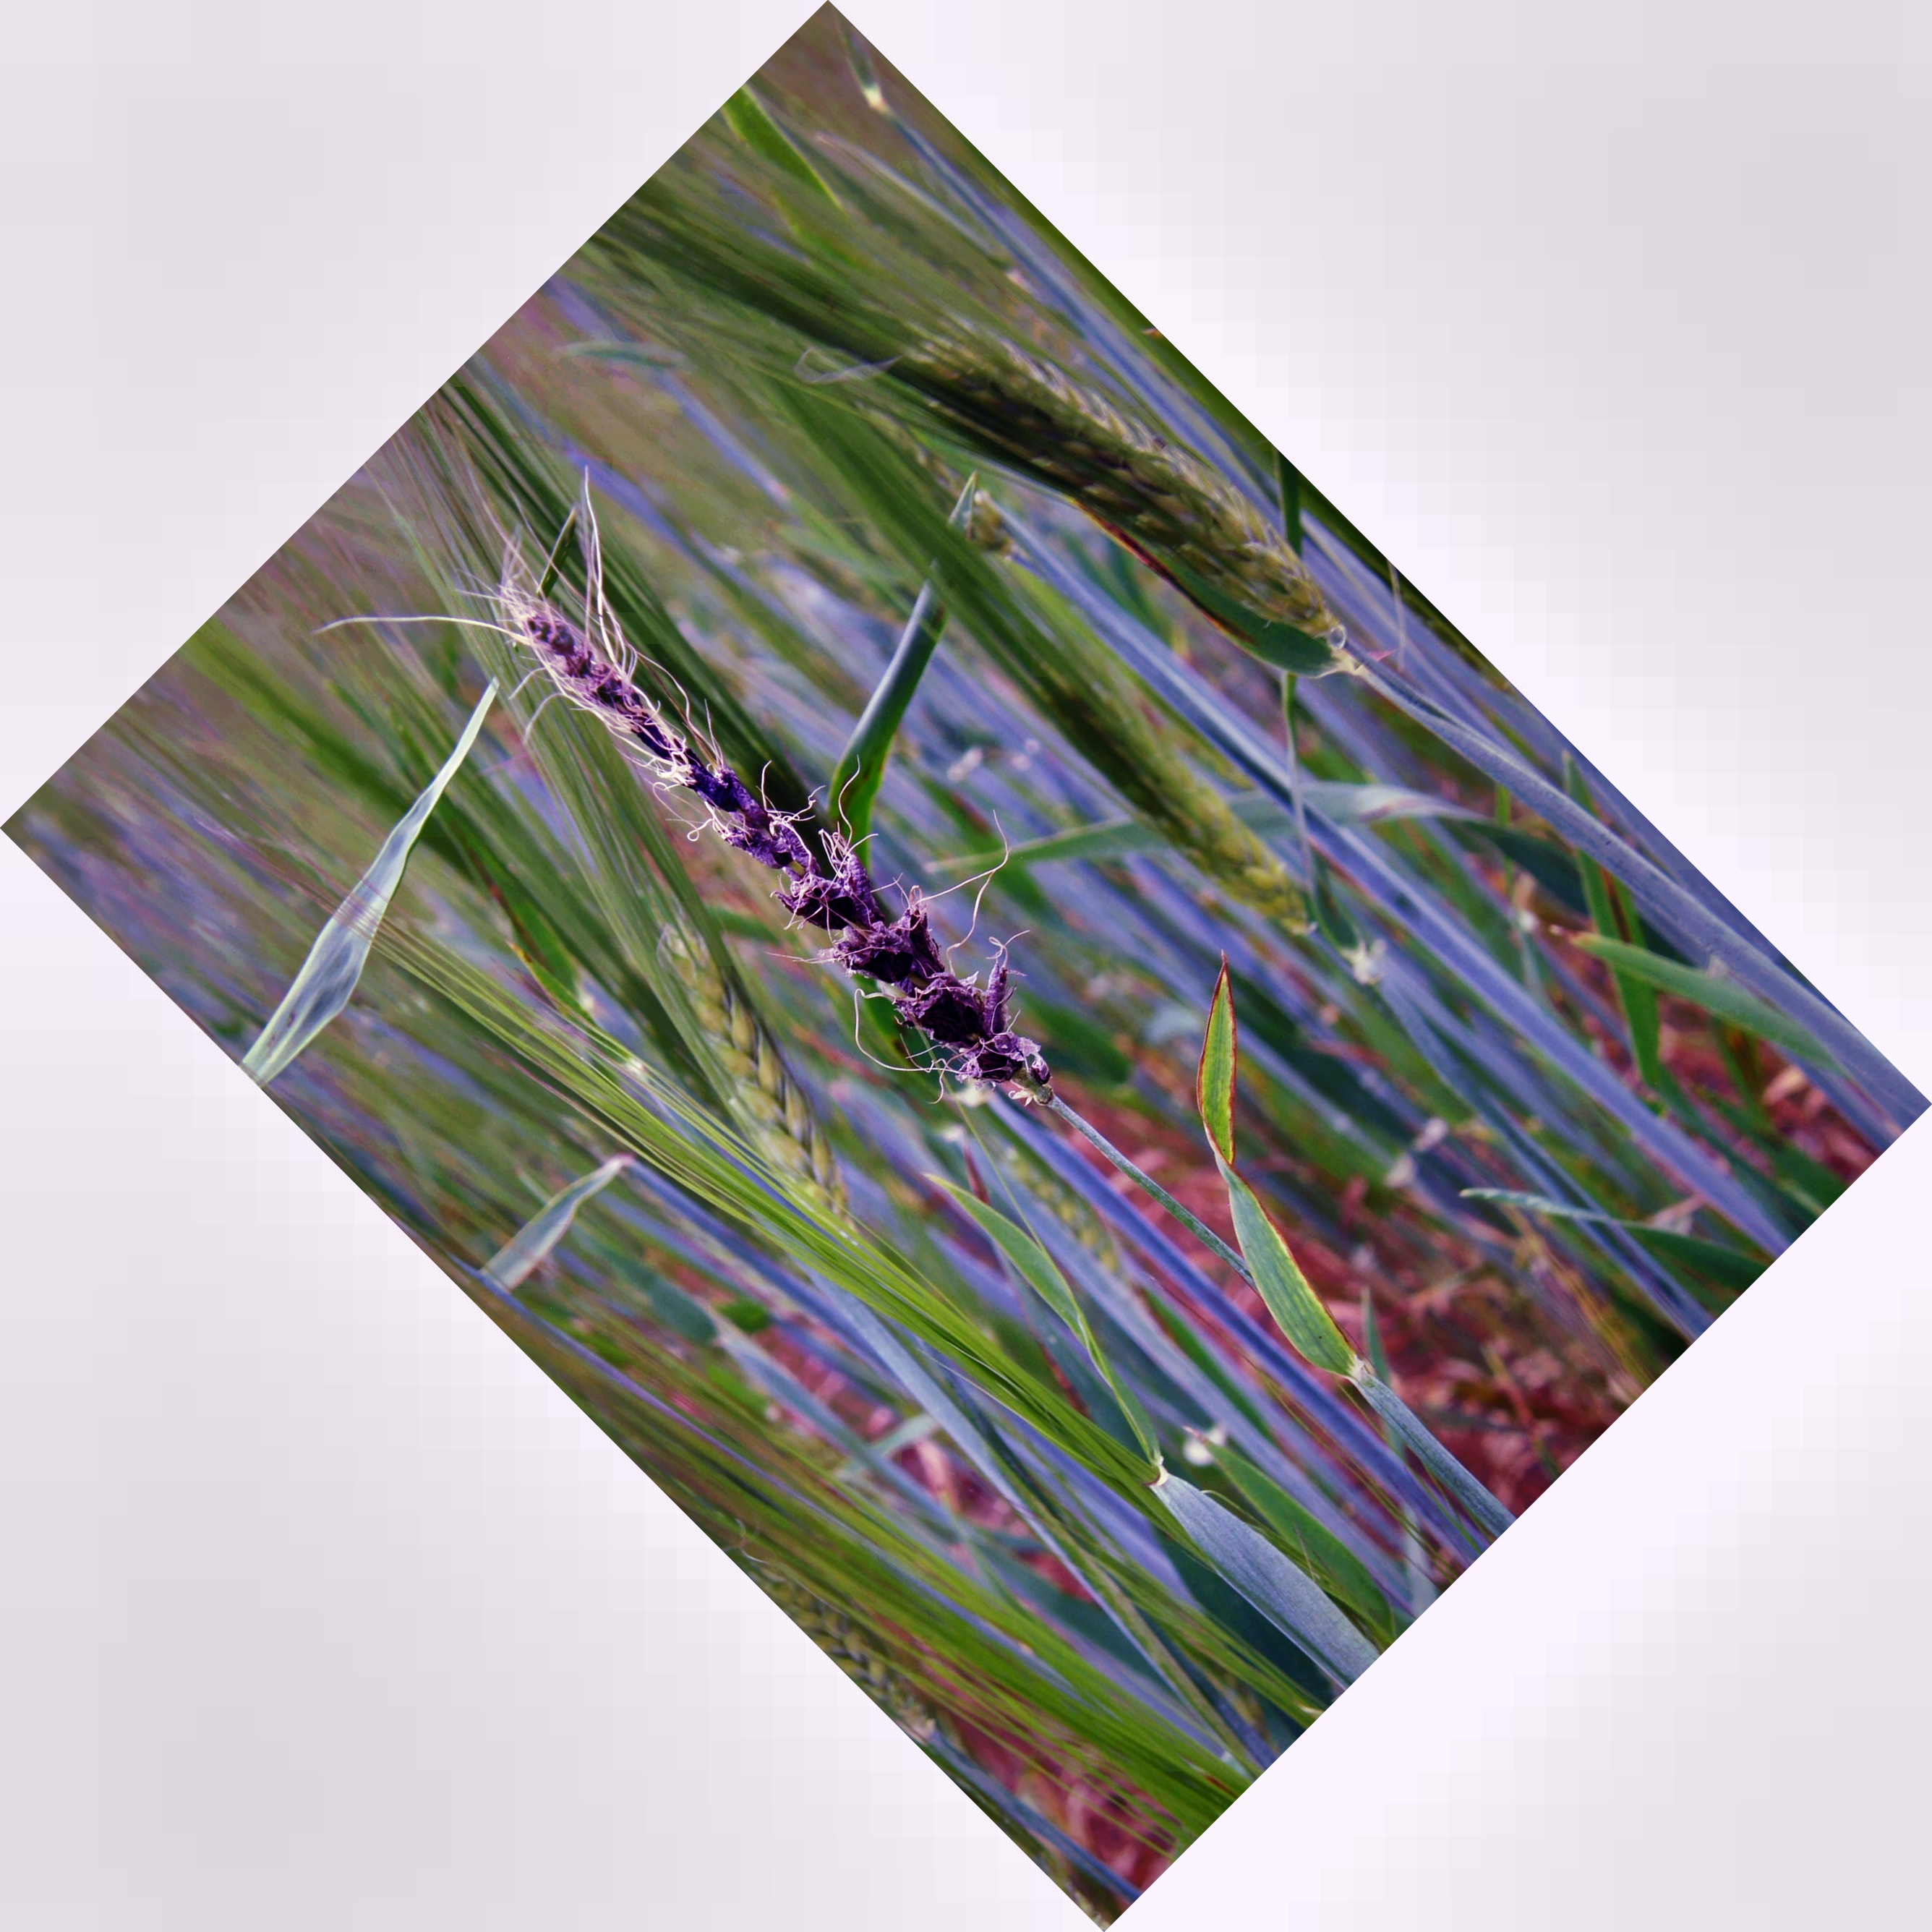Wheat Loose Smut: (483, 587, 1118, 1069)
